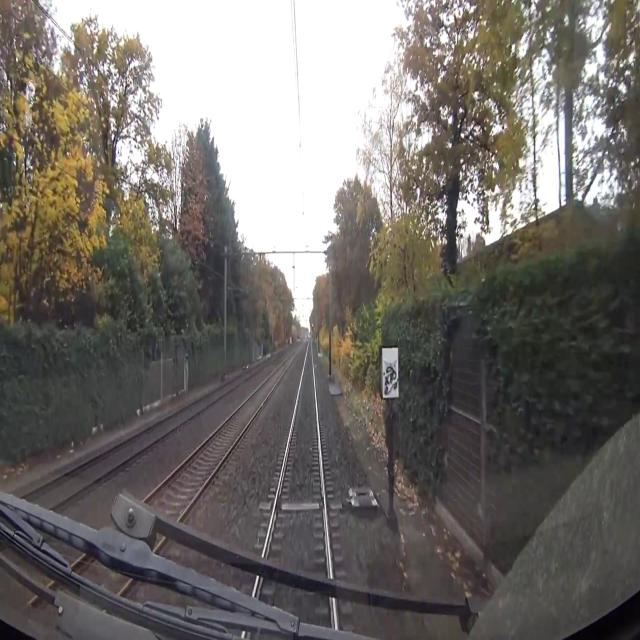rail-track: (175, 357, 291, 487), (272, 347, 326, 549), (125, 385, 230, 449), (80, 446, 121, 475)
